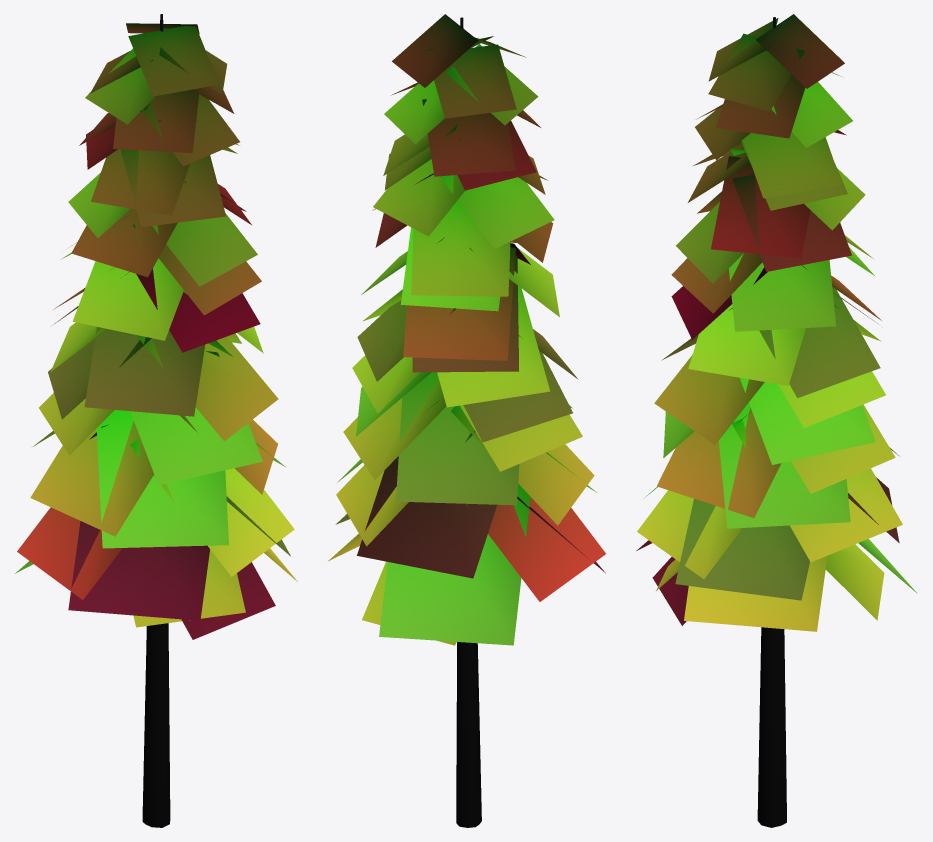
Rendered from Tree_5.fbx.
The picture shows the model from 3 angles, left to right: view 1: azimuth 30°, elevation 25°; view 2: azimuth 150°, elevation 25°; view 3: azimuth 270°, elevation 25°; orthographic projection.
Visible parts, largest first — view 1: Tree_5; view 2: Tree_5; view 3: Tree_5.
Part boxes in pixels (box(x1,y1,x2,y2)): Tree_5: box(15, 14, 297, 827); Tree_5: box(328, 14, 605, 827); Tree_5: box(636, 14, 917, 827).
Size of the model in its own units: 691 by 2282 by 725.
